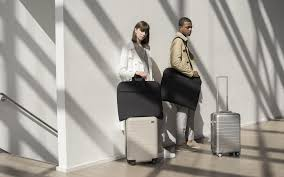suitcase: (116, 74, 165, 166), (210, 76, 242, 159)
